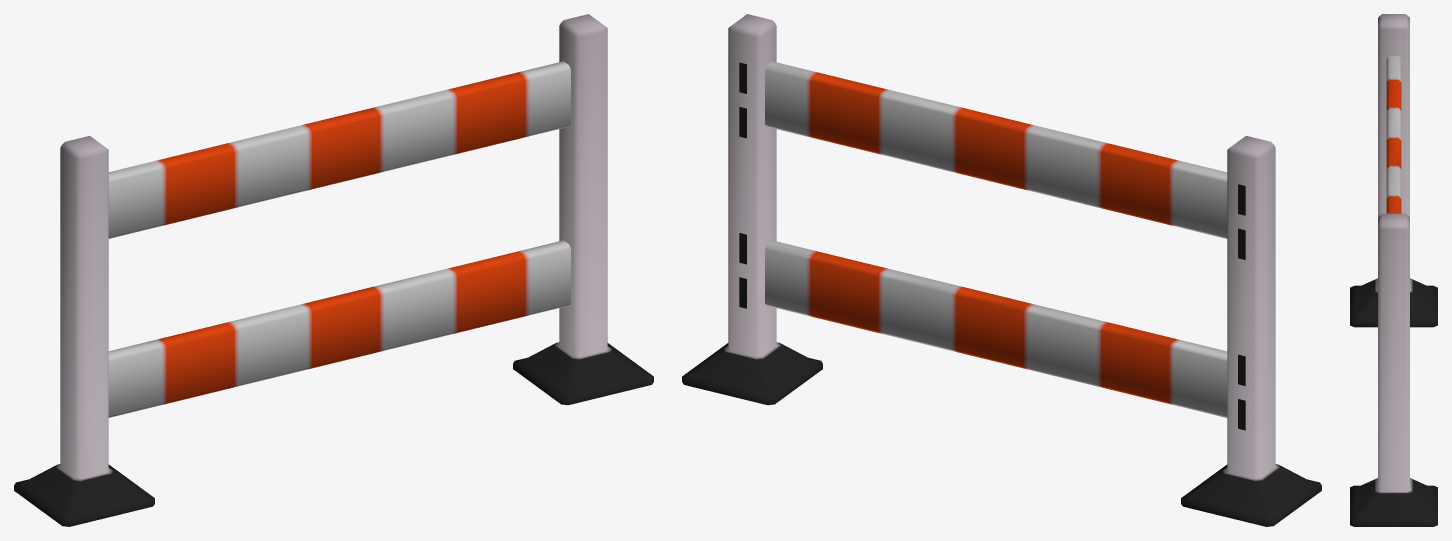
Rendered from TCP2_Demo_RoadWorksBarrier02_Flat.fbx.
3 renders of one model, left to right at view 1: azimuth 30°, elevation 25°; view 2: azimuth 150°, elevation 25°; view 3: azimuth 270°, elevation 25°, orthographic. The views are drawn at different scales.
Visible parts, largest first — view 1: RoadWorksBarrier02_flat; view 2: RoadWorksBarrier02_flat; view 3: RoadWorksBarrier02_flat.
Boxes of the visible parts, x1=… form: RoadWorksBarrier02_flat: x1=14, y1=14, x2=653, y2=526; RoadWorksBarrier02_flat: x1=682, y1=14, x2=1321, y2=526; RoadWorksBarrier02_flat: x1=1350, y1=14, x2=1437, y2=526.
Bounding box in the file's own units: 2.72 × 1.55 × 0.4257.
